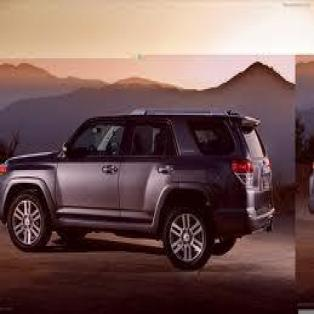Auto: (2, 104, 282, 275)
